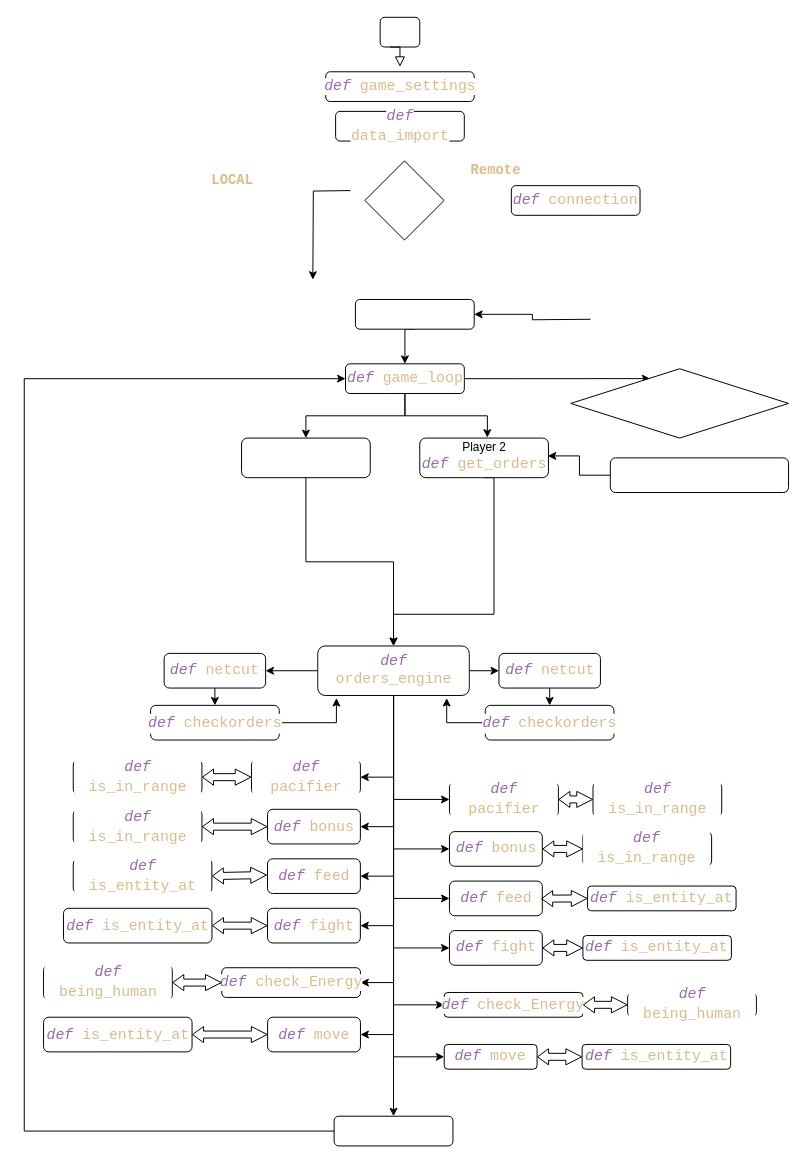
Image size: 806x1163. Some labels were removed from this diagram. The shapes that lost their labels are listed below. From the top down, each one's box as (x1, y1, x2, y2) in pixels, then its label:
(379, 16, 420, 47): Start
(364, 160, 444, 240): If remote
(354, 298, 474, 329): def play_game
(570, 368, 789, 438): def if_player_is_IA
(241, 437, 370, 478): Player 1 def get_orders
(609, 457, 789, 493): def orders_generator
(333, 1115, 453, 1146): def end_ tu rn
